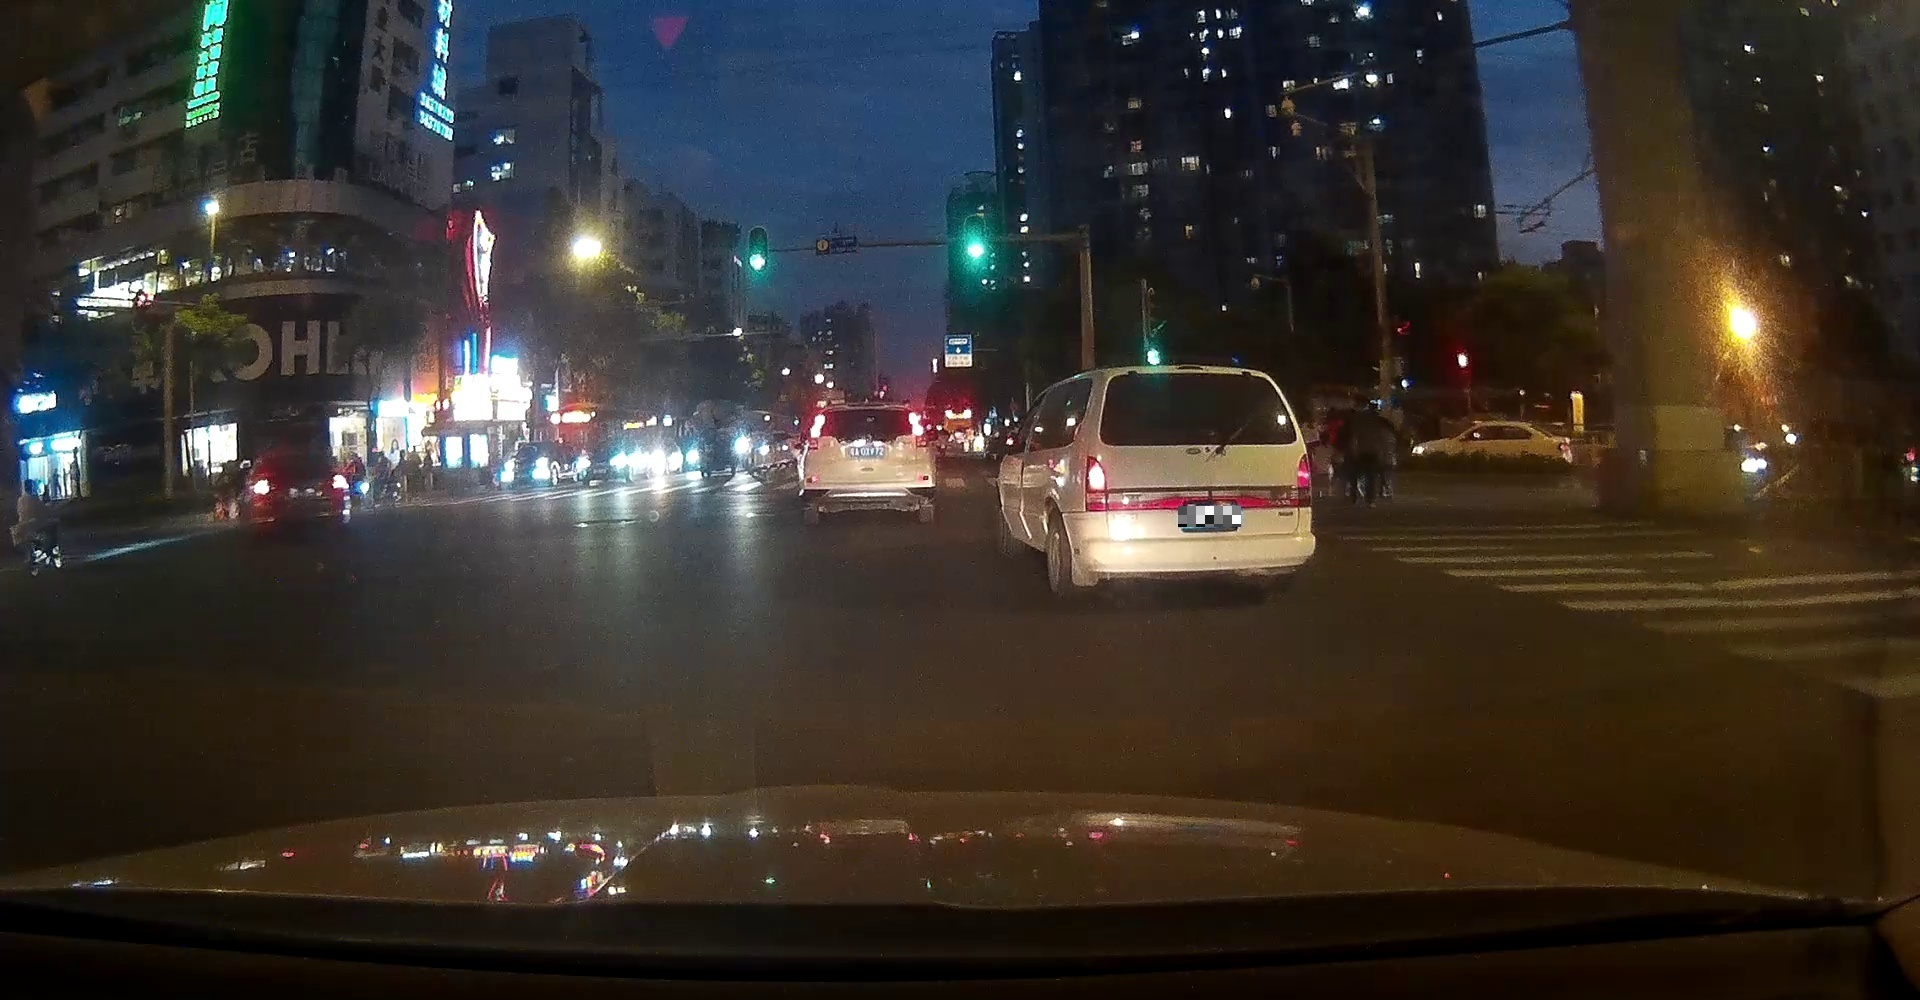L_light: (1084, 456, 1106, 511), (806, 414, 825, 448), (254, 478, 270, 494)
R_light: (1297, 452, 1313, 508), (908, 411, 930, 447), (331, 475, 349, 489)
T_light: (1176, 372, 1213, 379), (858, 409, 880, 414), (292, 458, 309, 464)
night-left: (1084, 364, 1316, 593)
night-no: (803, 404, 936, 522), (255, 452, 350, 530)
plate_1: (1178, 506, 1241, 527)
